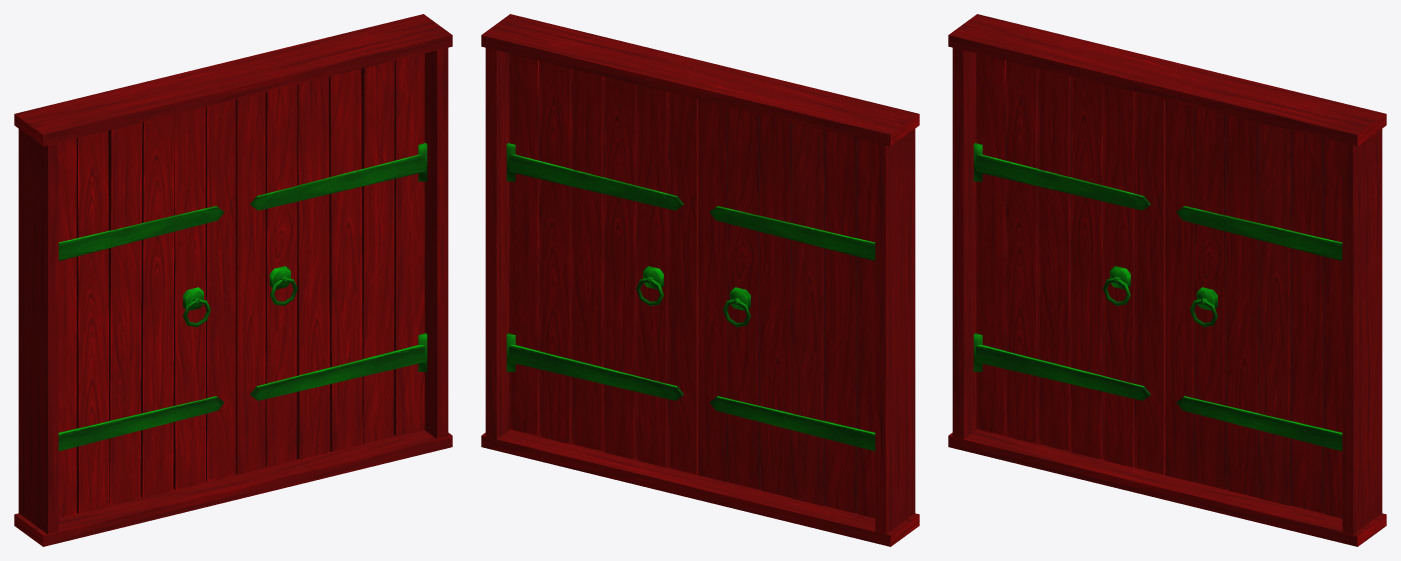
The model's file is DoorDouble01.fbx.
The picture shows the model from 3 angles, left to right: view 1: azimuth 30°, elevation 25°; view 2: azimuth 150°, elevation 25°; view 3: azimuth 330°, elevation 25°; orthographic projection.
Parts seen in each view (by area): view 1: Leaf01_LOD0, Leaf02_LOD0, DoorDouble01_LOD0; view 2: Leaf01_LOD0, Leaf02_LOD0, DoorDouble01_LOD0; view 3: Leaf02_LOD0, Leaf01_LOD0, DoorDouble01_LOD0.
Boxes of the visible parts, <box> form: Leaf01_LOD0: <box>235,53,427,474</box>; Leaf02_LOD0: <box>58,99,235,518</box>; DoorDouble01_LOD0: <box>14,14,452,546</box>; Leaf01_LOD0: <box>506,53,698,474</box>; Leaf02_LOD0: <box>698,99,875,518</box>; DoorDouble01_LOD0: <box>481,14,919,546</box>; Leaf02_LOD0: <box>973,53,1165,474</box>; Leaf01_LOD0: <box>1165,99,1342,518</box>; DoorDouble01_LOD0: <box>948,14,1386,546</box>.
Size of what is drawn, in the model's own units: 2.14 by 2.06 by 0.2628.
